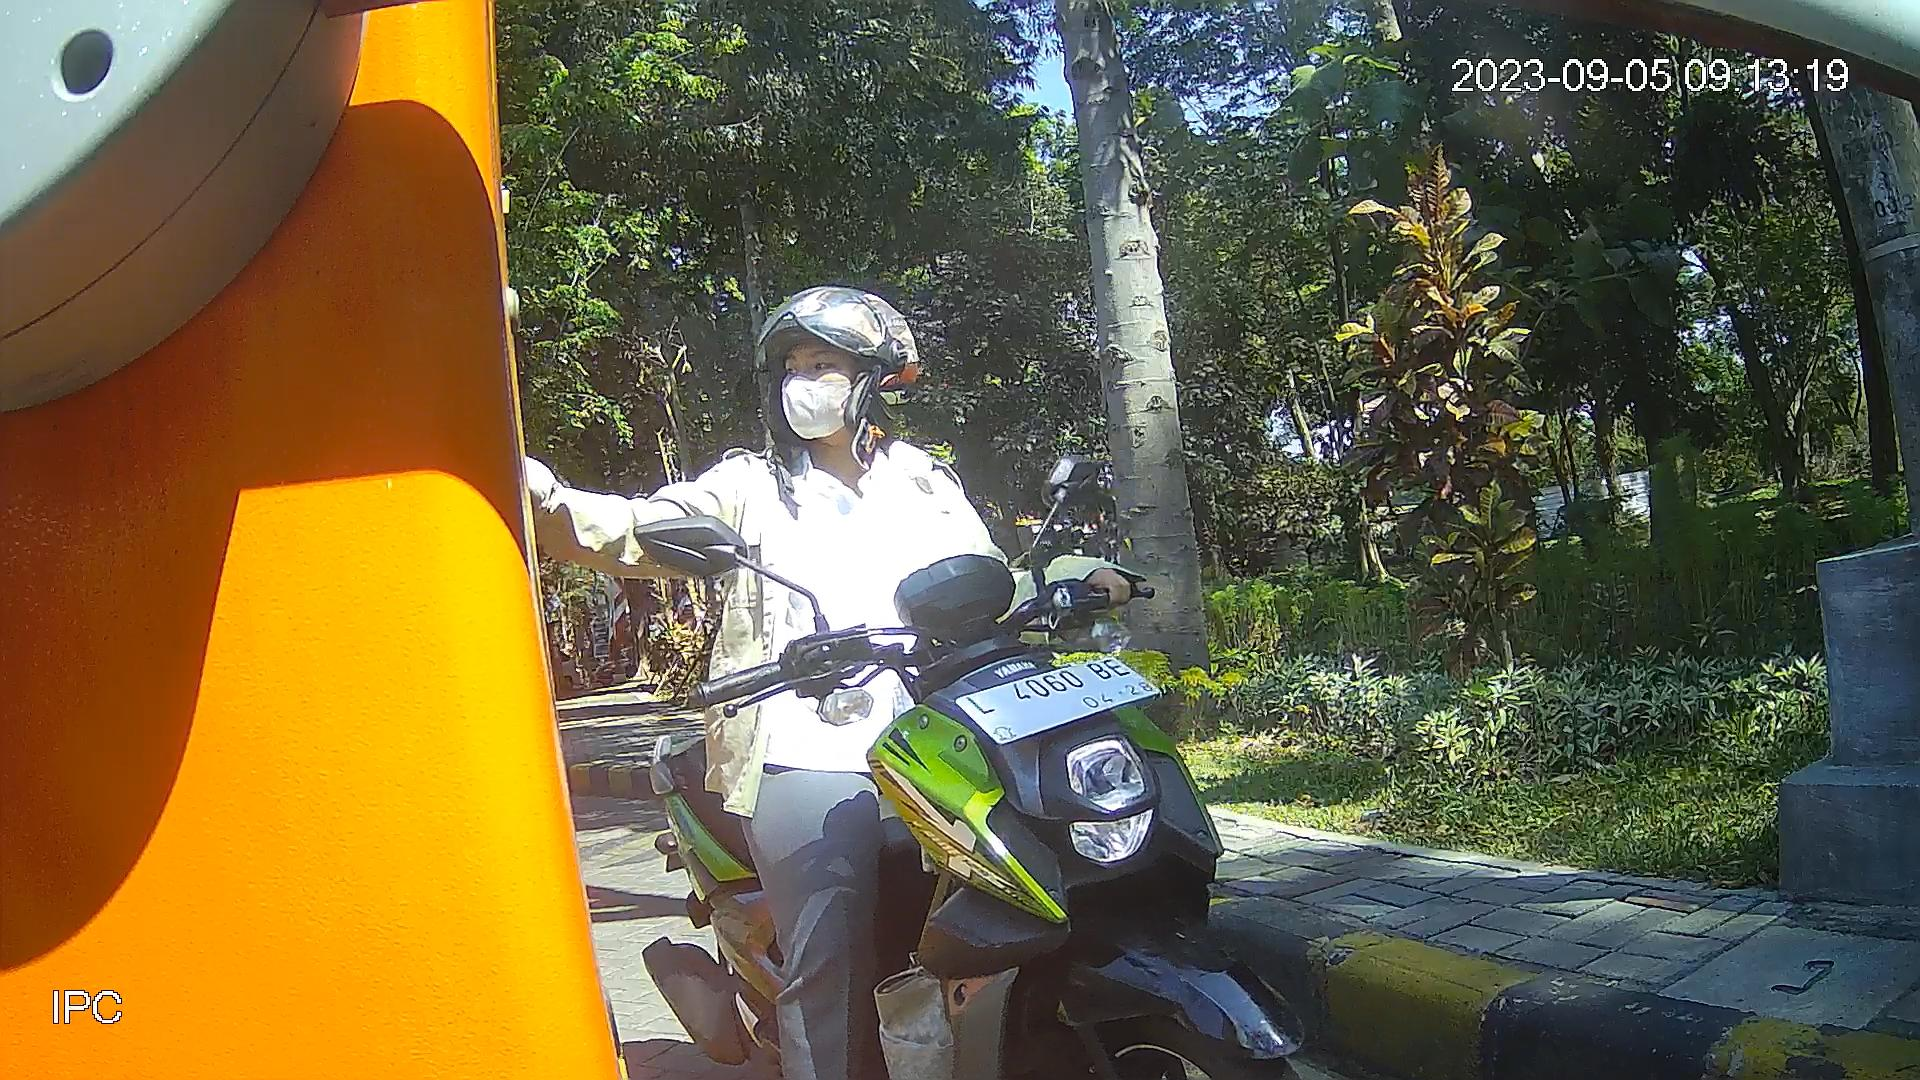plat: (948, 654, 1163, 748)
